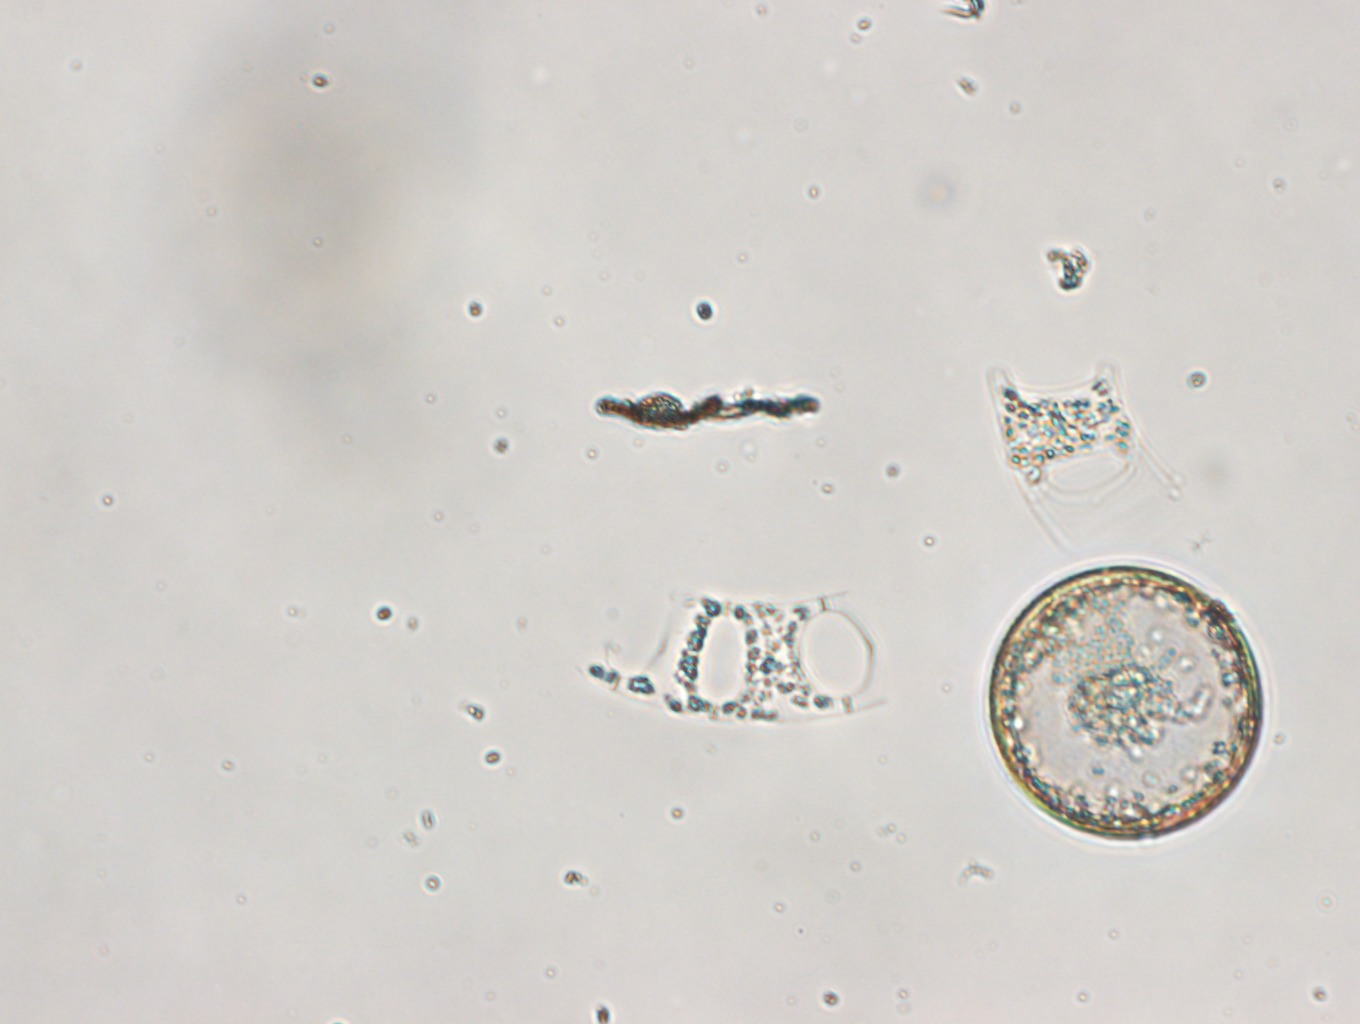coscinodiscus: (980, 561, 1270, 848)
eucampia: (574, 565, 914, 736), (979, 350, 1222, 567)
